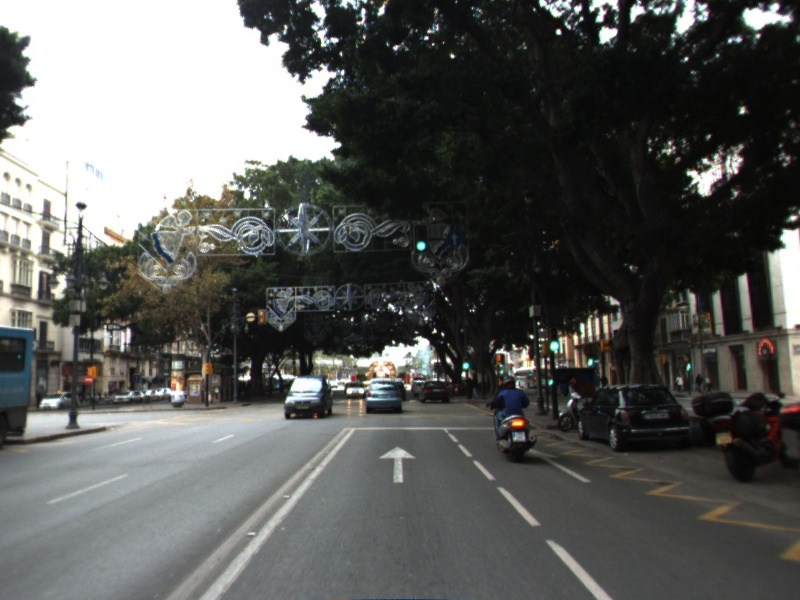STRAIGHT: (523, 446, 595, 484), (377, 444, 418, 485)
